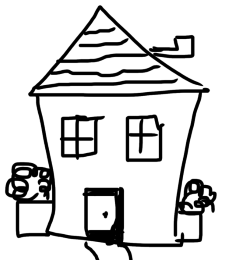big_house: (2, 1, 240, 260)
chimney: (141, 20, 200, 67)
closed_window: (117, 112, 166, 170), (57, 109, 107, 161)
door: (79, 184, 135, 249)
roof: (16, 2, 222, 97)
wall: (32, 85, 204, 251)
